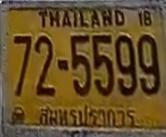2: (34, 35, 52, 97)
5: (69, 34, 91, 96), (92, 34, 112, 95)
7: (12, 35, 31, 97)
9: (137, 34, 159, 94), (114, 36, 136, 95)
SPK: (36, 102, 138, 130)
